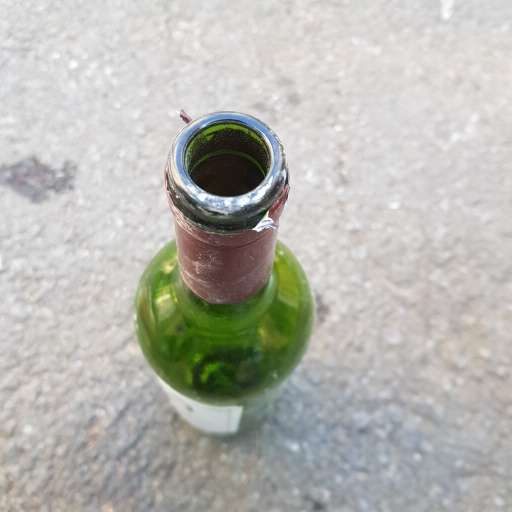Glass_2: (127, 107, 318, 445)
